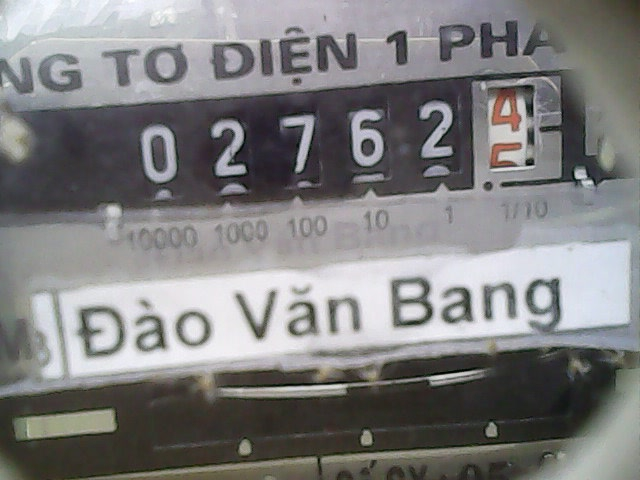phy_plate: (115, 68, 578, 206)
